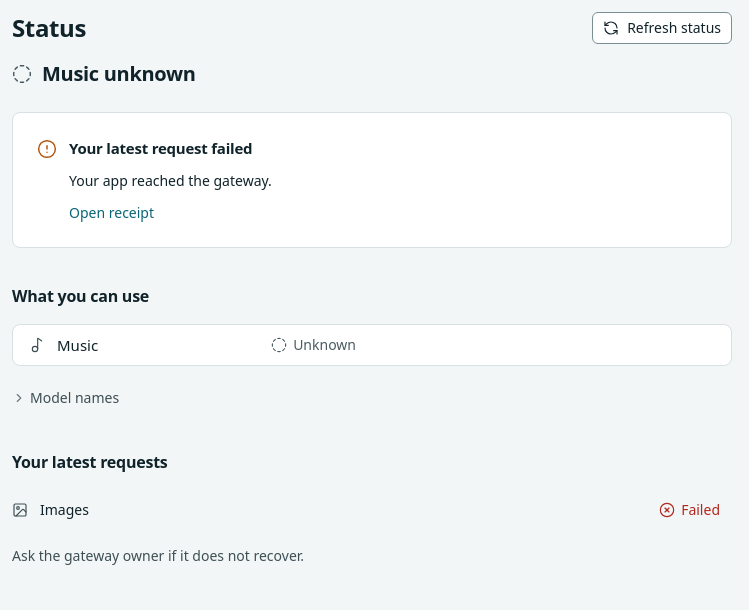
it: member Status diagnosis › shows neutral presentation when an older snapshot has no presentation fields
Expected: the list item "Music" shows "Unknown", 293,335 -> 356,354
Expected: the list item "Music" does not show "Ready", 29,335 -> 356,355
Click the heading "Model names": (66, 398) 12,382 -> 119,414
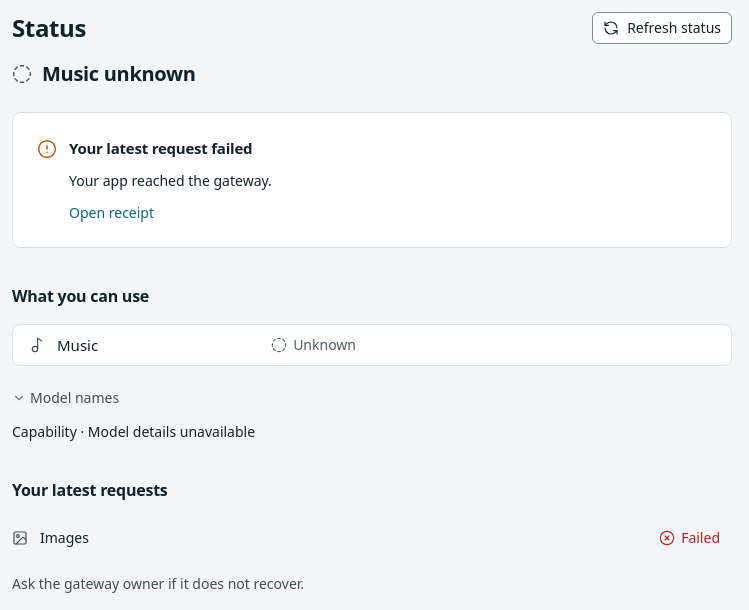
Result: the text "Model details unavailable" is shown at 88,422 -> 255,441
